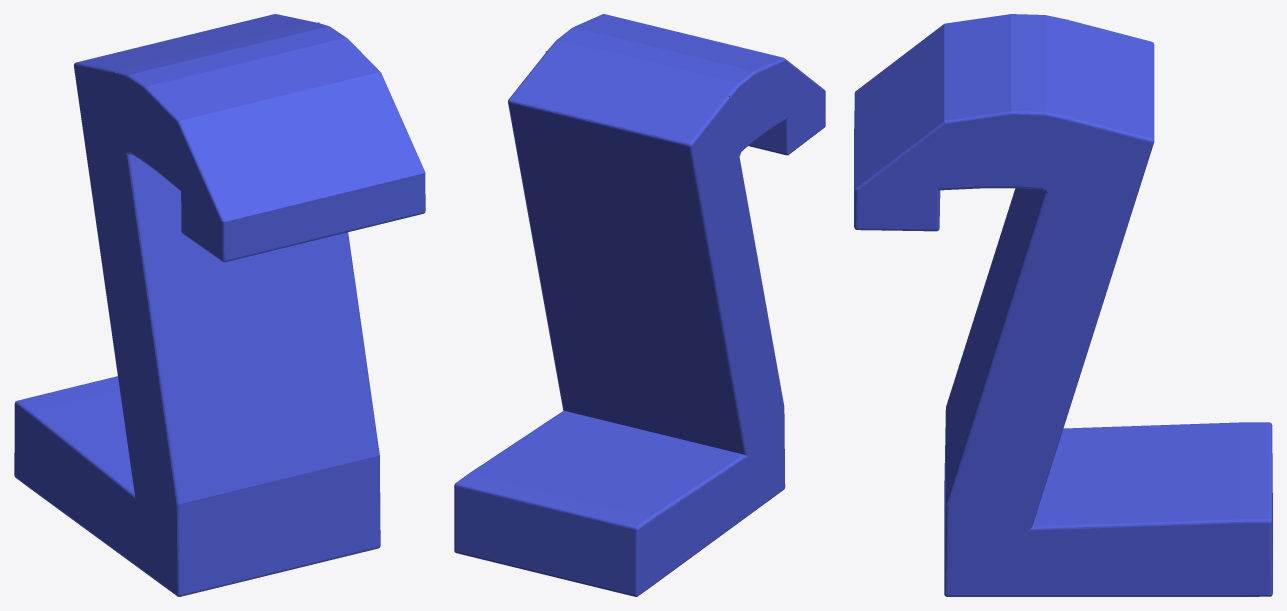
The model's file is numero2.fbx.
3 views of the same model, side by side, from view 1: azimuth 30°, elevation 25°; view 2: azimuth 150°, elevation 25°; view 3: azimuth 270°, elevation 25° (orthographic). The views are drawn at different scales.
Parts seen in each view (by area): view 1: Cube; view 2: Cube; view 3: Cube.
Boxes of the visible parts, <box> form: Cube: <box>14,14,425,596</box>; Cube: <box>454,14,825,596</box>; Cube: <box>854,14,1272,596</box>.
Bounding box in the file's own units: 522 × 1191 × 930.
